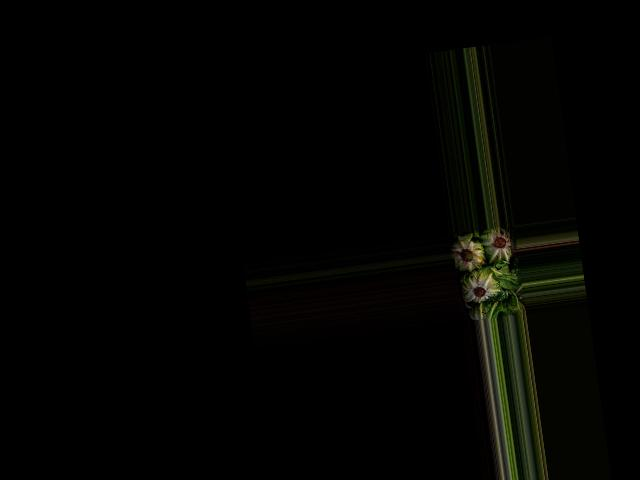lettuce: (479, 226, 514, 265)
